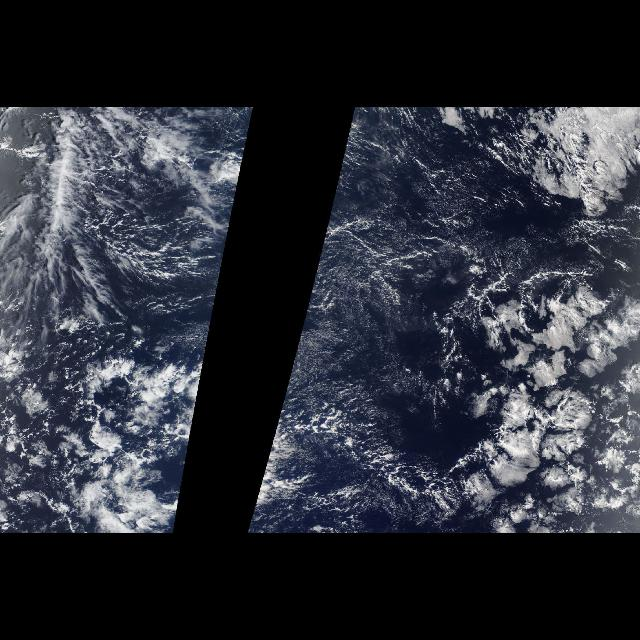Flower: (451, 259, 639, 533)
Sugar: (249, 108, 487, 526), (185, 220, 231, 466)
